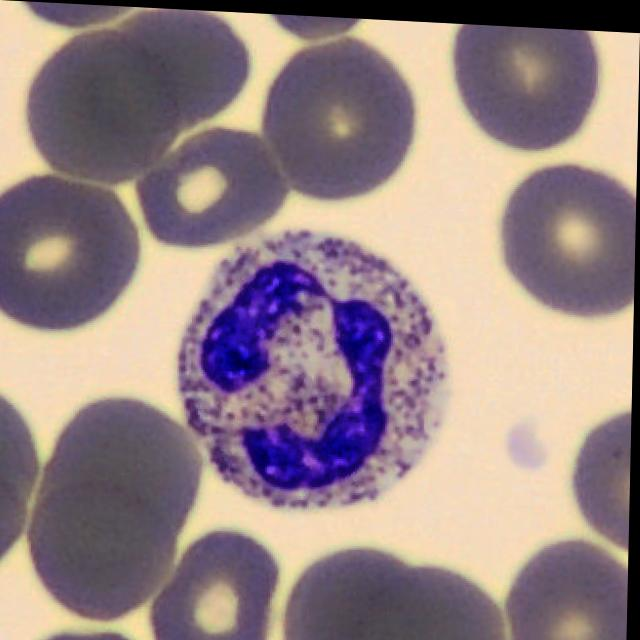Neutrofilo segmentado: (181, 229, 454, 507)
